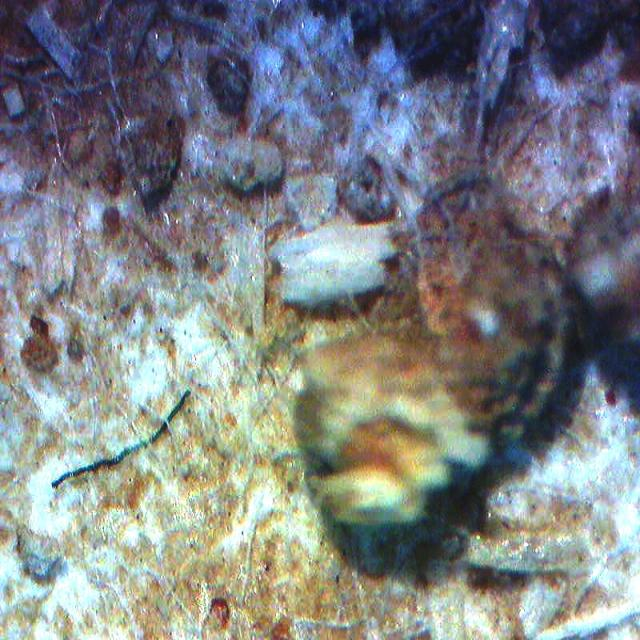microplastic: (51, 390, 191, 488)
